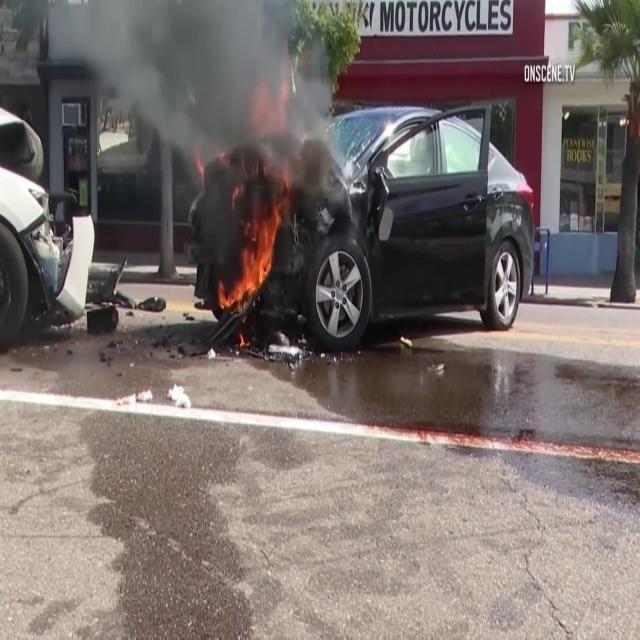Fire: (43, 0, 343, 196), (218, 210, 280, 315)
